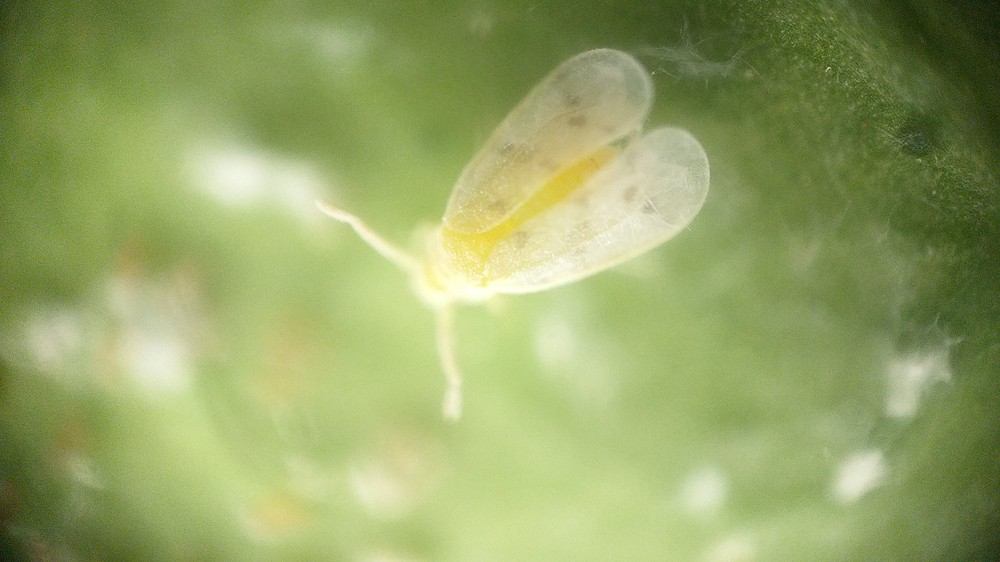Mosca Blanca: (297, 47, 727, 423)
